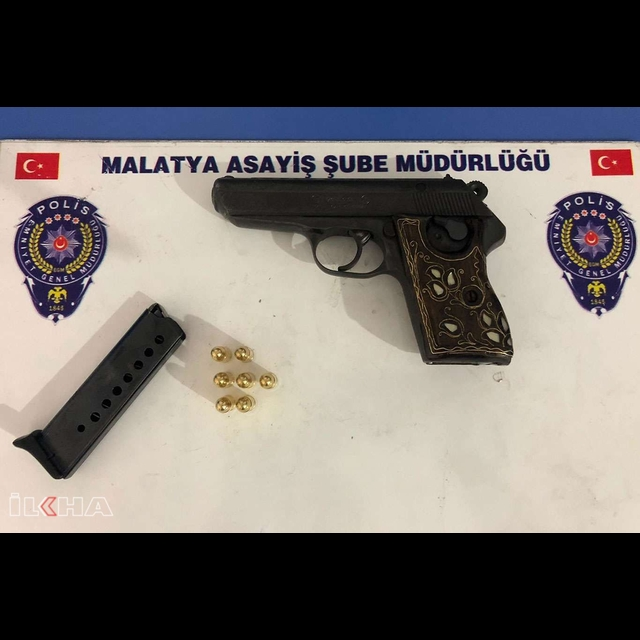SILAH: (209, 174, 515, 369)
